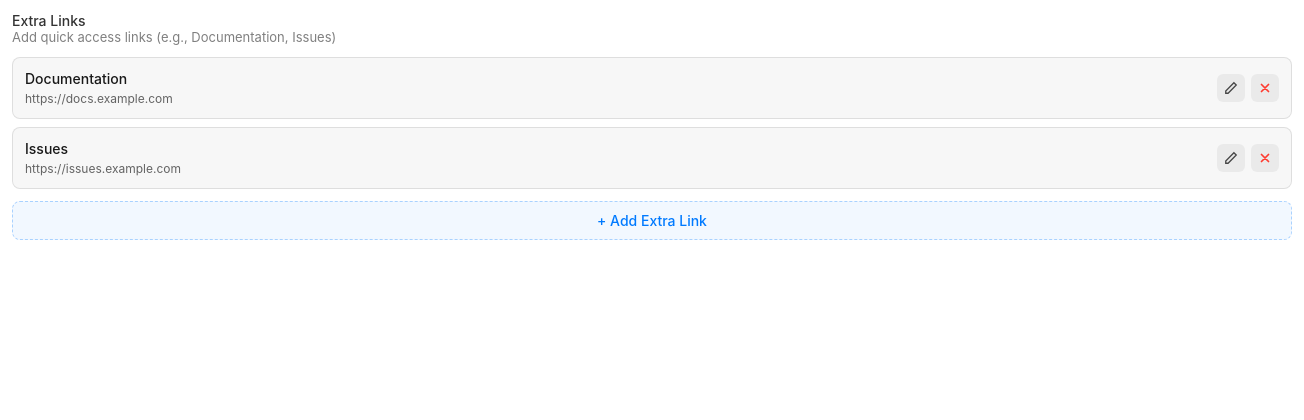
Test: ExtraLinksSection › should show duplicate name error when adding link with existing name
The width and height of the screenshot is (1304, 420).
Click the button with class "add-link-button" at (652, 220), box [12,201,1292,240]
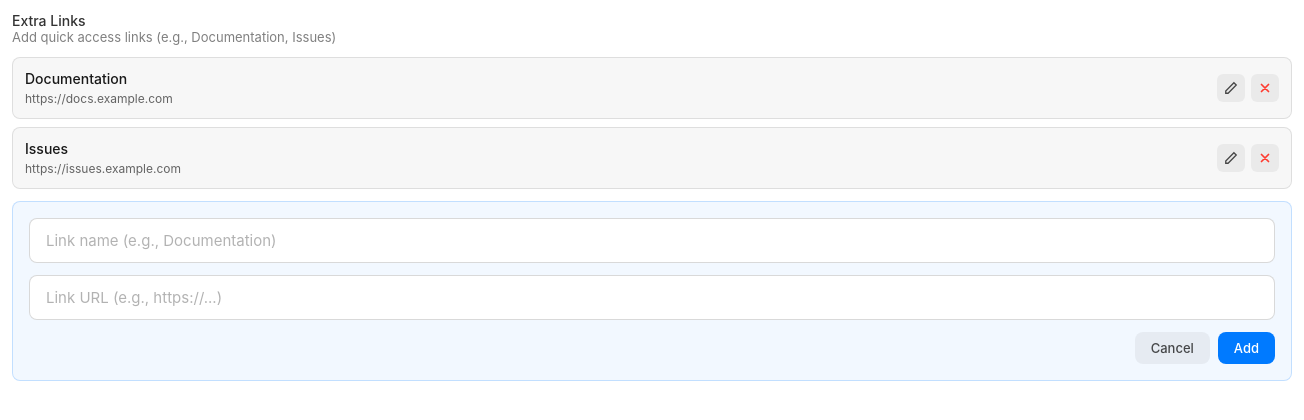
Type "documentation" into the field with placeholder "Link name (e.g., Documentation)" at (652, 240), box [29,218,1275,263]
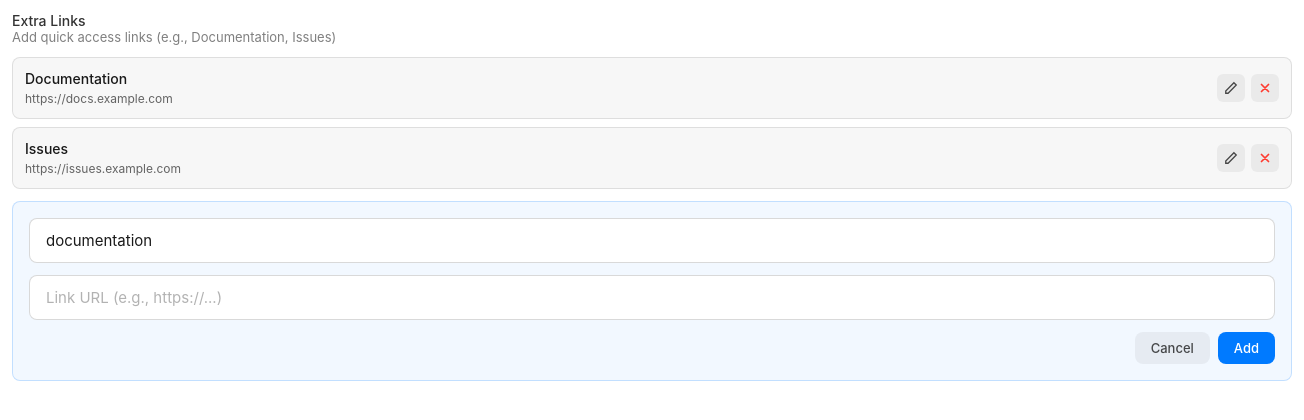
Type "https://new.example.com" into the field with placeholder "Link URL (e.g., https://...)" at (652, 298), box [29,275,1275,320]
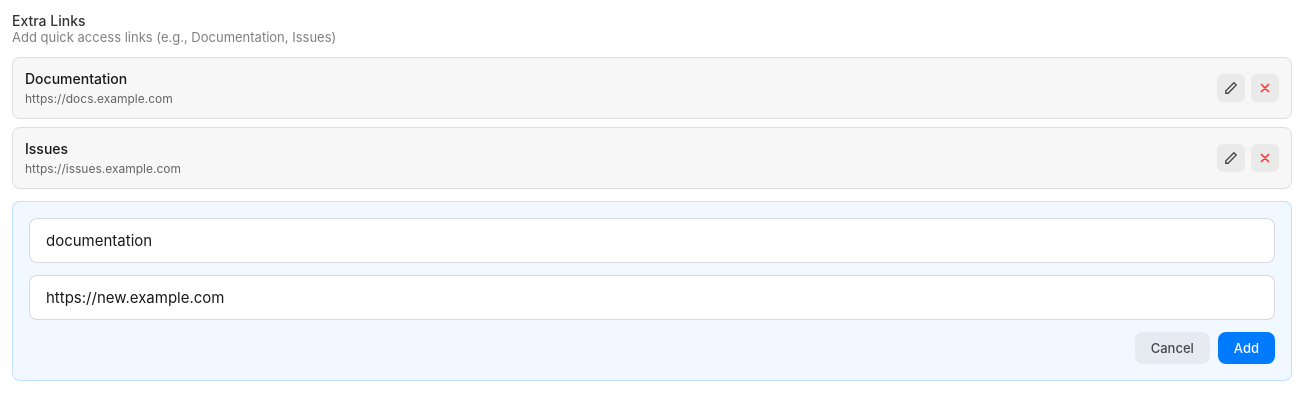
Click the button with class "form-button" showing "Add" at (1246, 348), box [1218,332,1275,364]
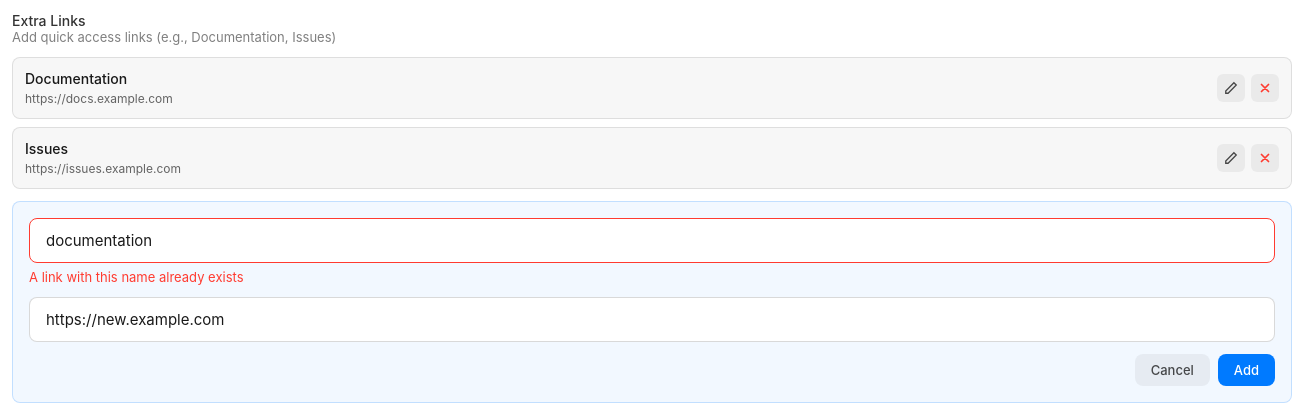
Expected: the text "A link with this name already exists" is shown, [29,269,244,285]
